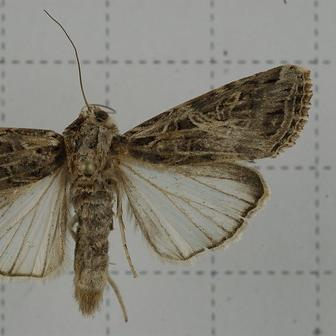Spodoptera litura: (1, 9, 313, 324)
